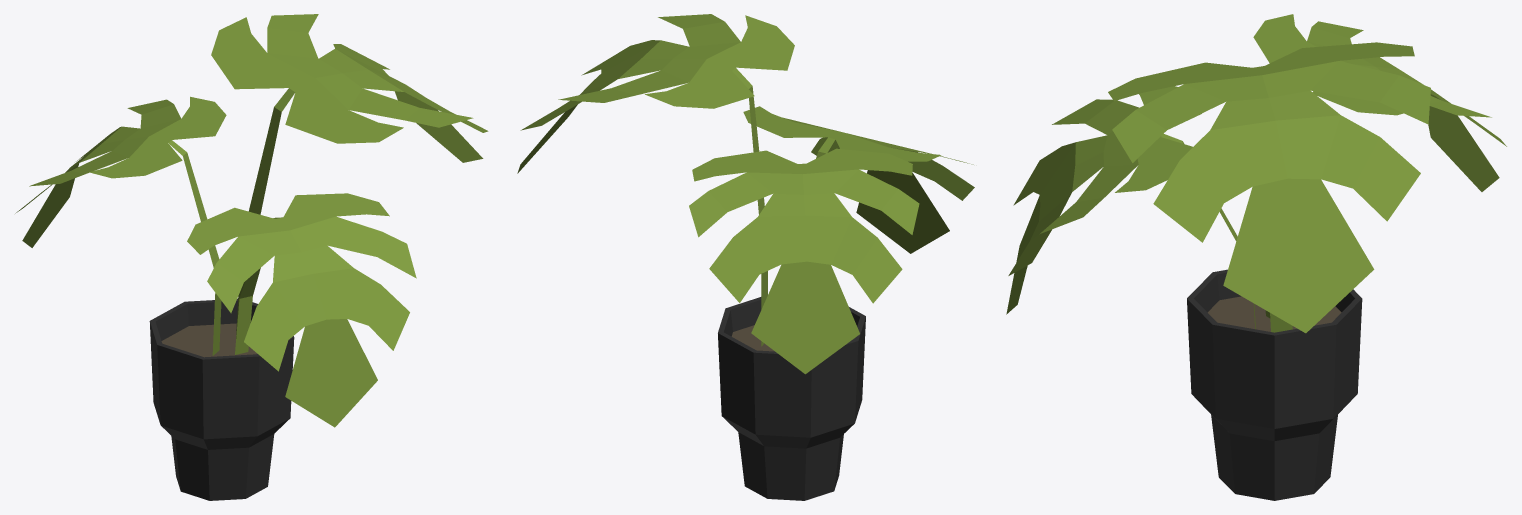
File: houseplant.glb
The picture shows the model from 3 angles, left to right: view 1: azimuth 30°, elevation 25°; view 2: azimuth 150°, elevation 25°; view 3: azimuth 270°, elevation 25°; orthographic projection. The views are drawn at different scales.
Visible parts, largest first — view 1: Houseplant_1_Cylinder.024; view 2: Houseplant_1_Cylinder.024; view 3: Houseplant_1_Cylinder.024.
Part boxes in pixels (x1,y1,x2,y2): Houseplant_1_Cylinder.024: [15, 14, 488, 500]; Houseplant_1_Cylinder.024: [517, 14, 974, 500]; Houseplant_1_Cylinder.024: [1006, 14, 1506, 500].
Size of the model in its own units: 0.769 by 0.7174 by 0.6943.
